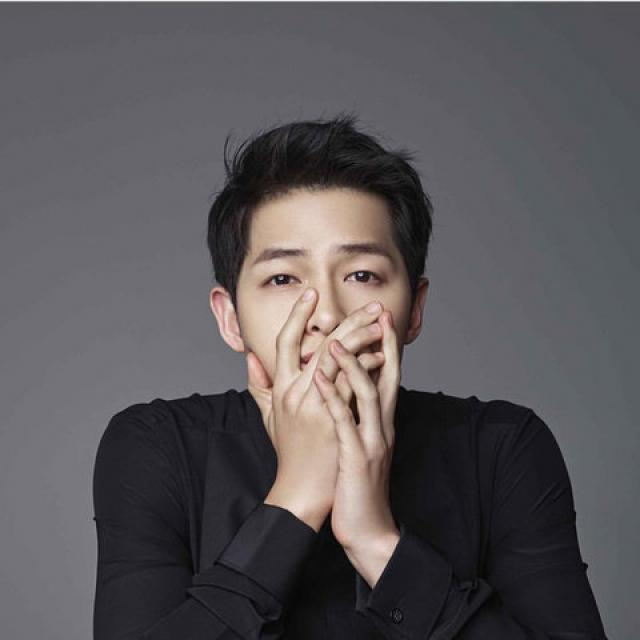nomask: (235, 181, 408, 411)
